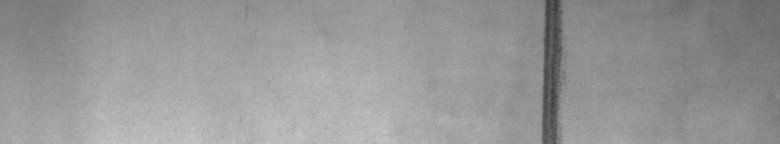hd: (536, 4, 568, 136)
